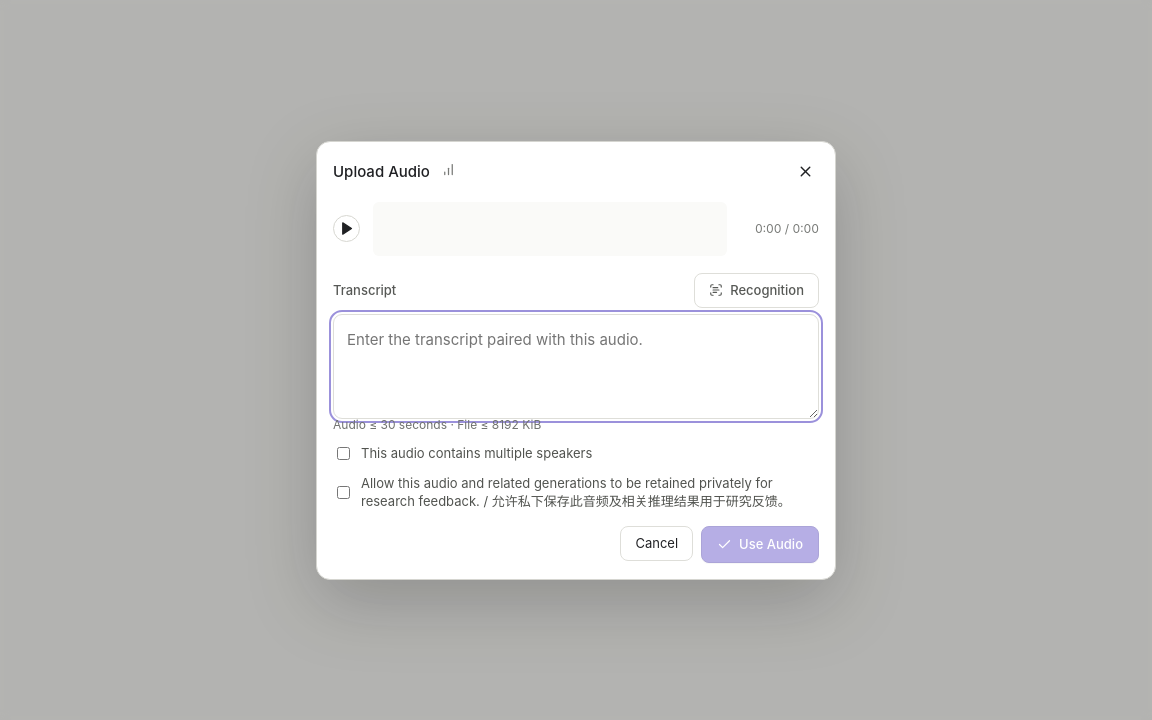
it: AudioUploadDialog › recognizes a transcript without submitting the upload
Step 1. Click the button "Recognition" → (757, 290), box [694,272,819,308]
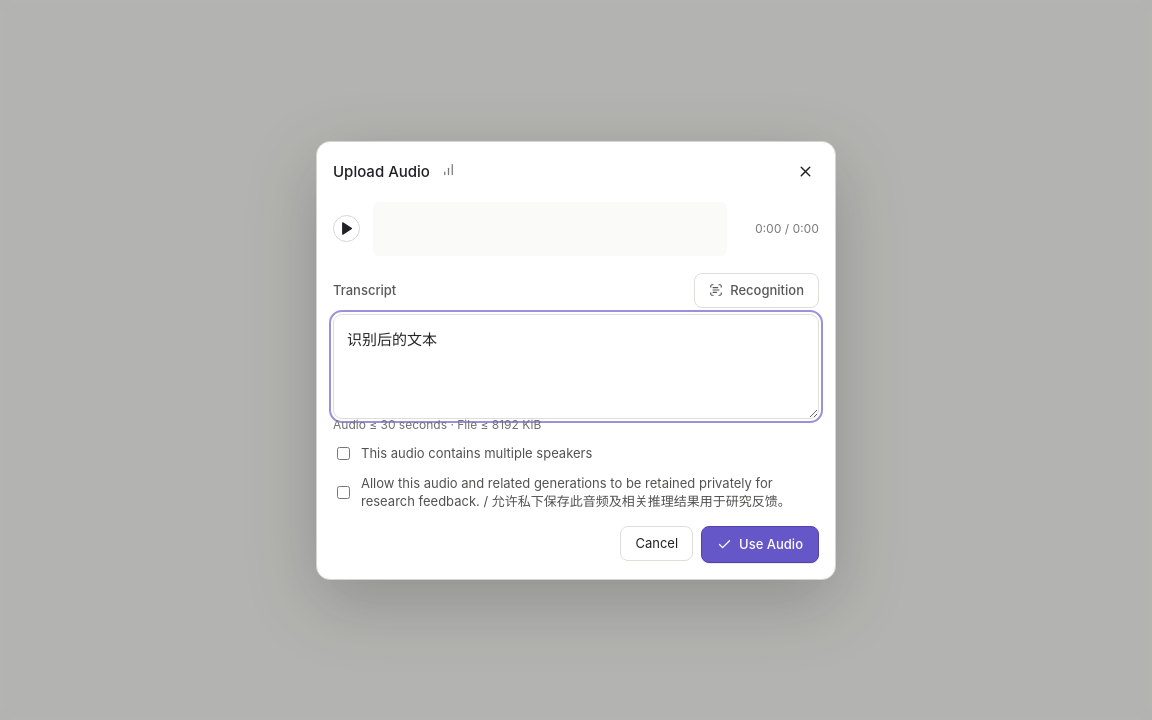
Result: the text box named "transcript" holds "识别后的文本" at [333,314,819,418]
